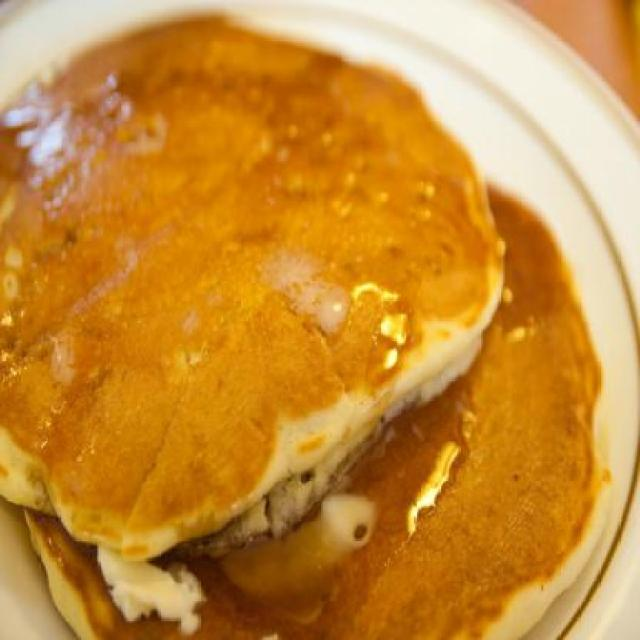Pancake: (0, 24, 520, 618)
